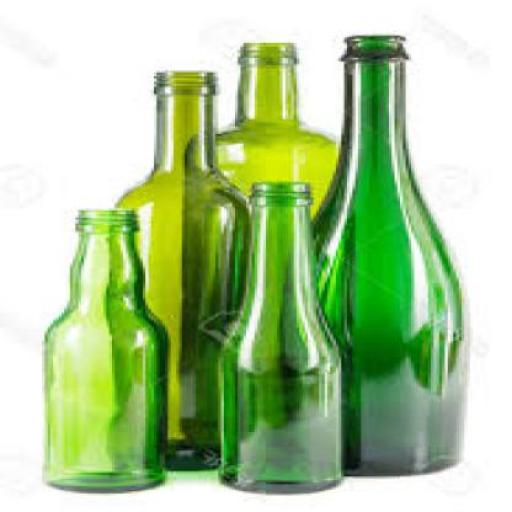glass: (310, 33, 464, 473), (190, 40, 350, 446), (115, 69, 249, 469), (218, 181, 342, 491), (48, 206, 170, 492)
